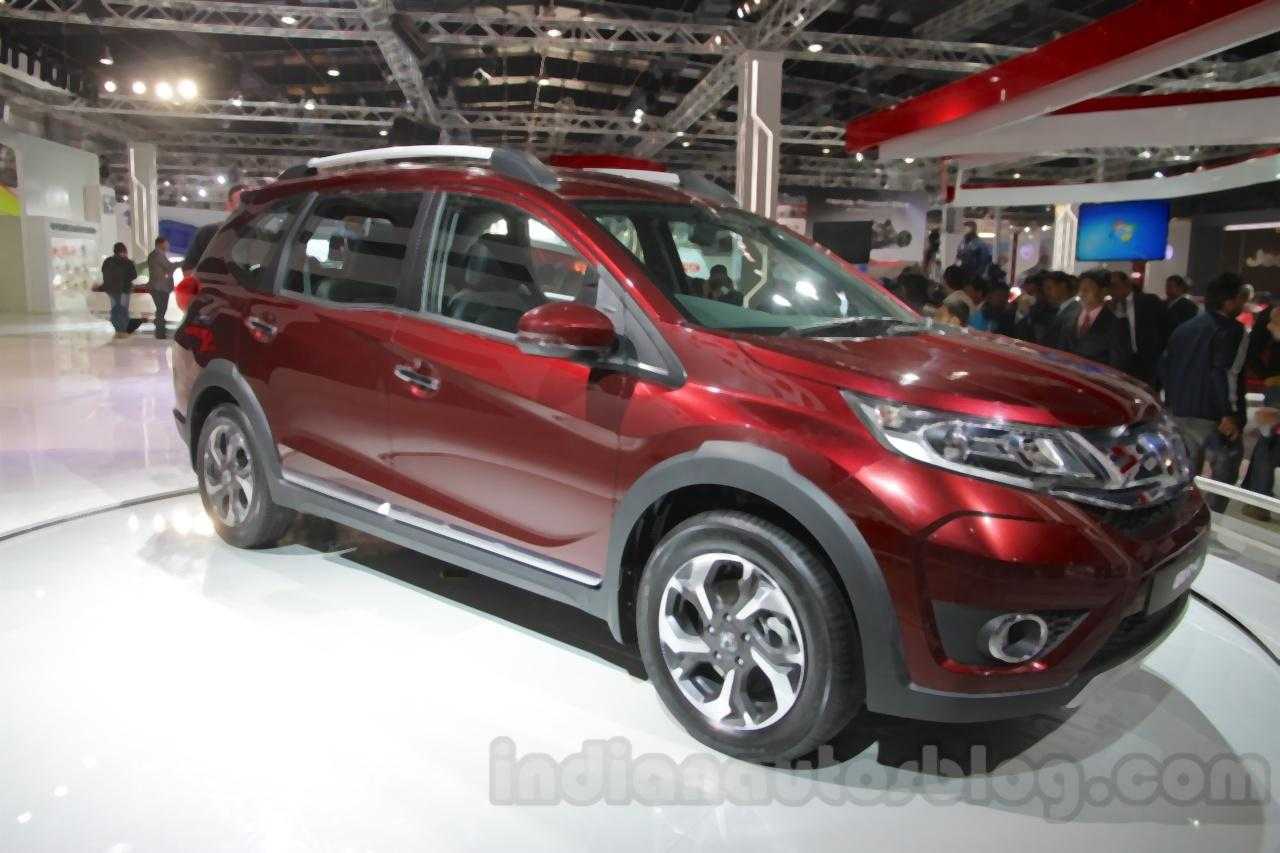Car hood: (735, 318, 1182, 421)
Driver-s door - -F-R-: (398, 168, 634, 585)
Fender - -F-R-: (595, 317, 902, 628)
Fender - -R-R-: (189, 271, 295, 535)
Front bumper: (843, 496, 1220, 738)
Headlight - -R-: (820, 365, 1134, 505)
Passenger-s door - -R-R-: (241, 169, 420, 513)
Rear bumper: (160, 388, 209, 469)
Rear light - -R-: (158, 253, 225, 321)
Side bumper - -R-: (257, 464, 638, 660)
Side mirror - -R-: (510, 283, 634, 383)
